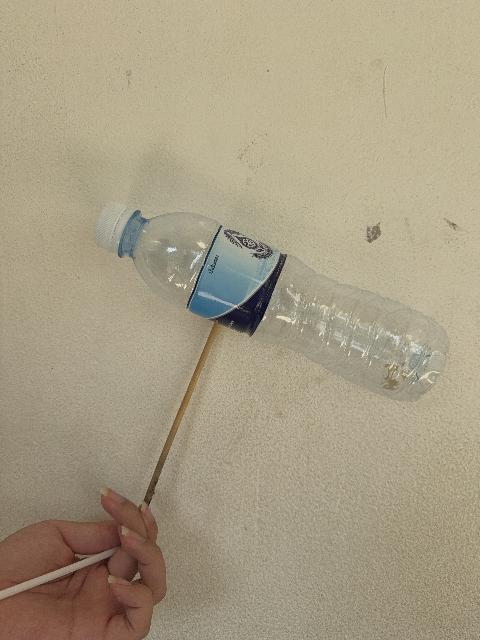bottle: (95, 203, 448, 400)
